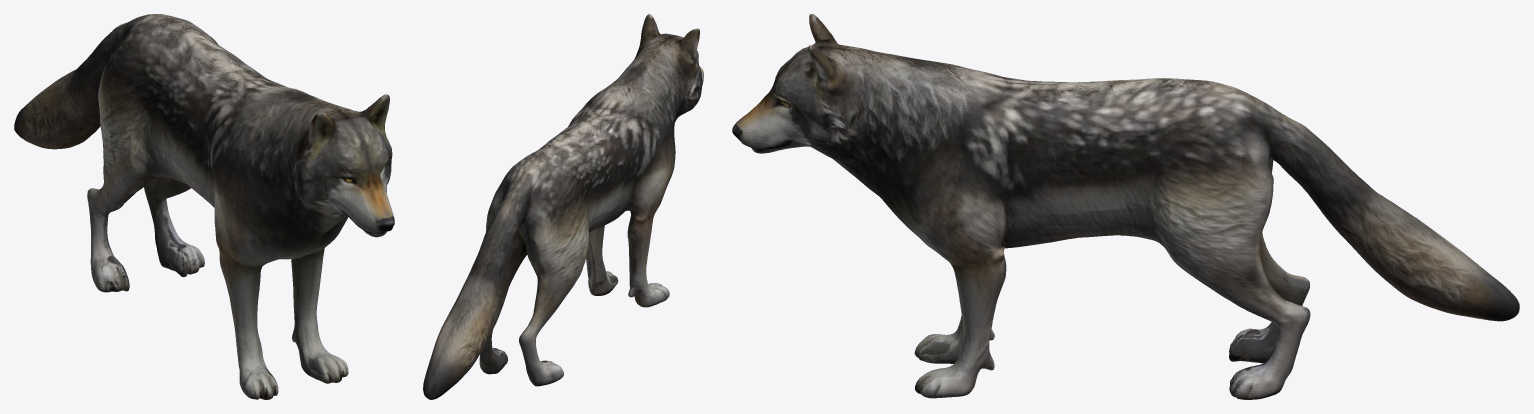
File: lobo.glb
The picture shows the model from 3 angles, left to right: view 1: azimuth 30°, elevation 25°; view 2: azimuth 150°, elevation 25°; view 3: azimuth 270°, elevation 25°; orthographic projection. The views are drawn at different scales.
Parts seen in each view (by area): view 1: Object_2; view 2: Object_2; view 3: Object_2.
Part boxes in pixels (x1=…): Object_2: x1=14, y1=14, x2=394, y2=399; Object_2: x1=423, y1=14, x2=703, y2=399; Object_2: x1=732, y1=14, x2=1519, y2=399.
Bounding box in the file's own units: 0.3727 × 0.9789 × 2.
1 material, 1 textured.
